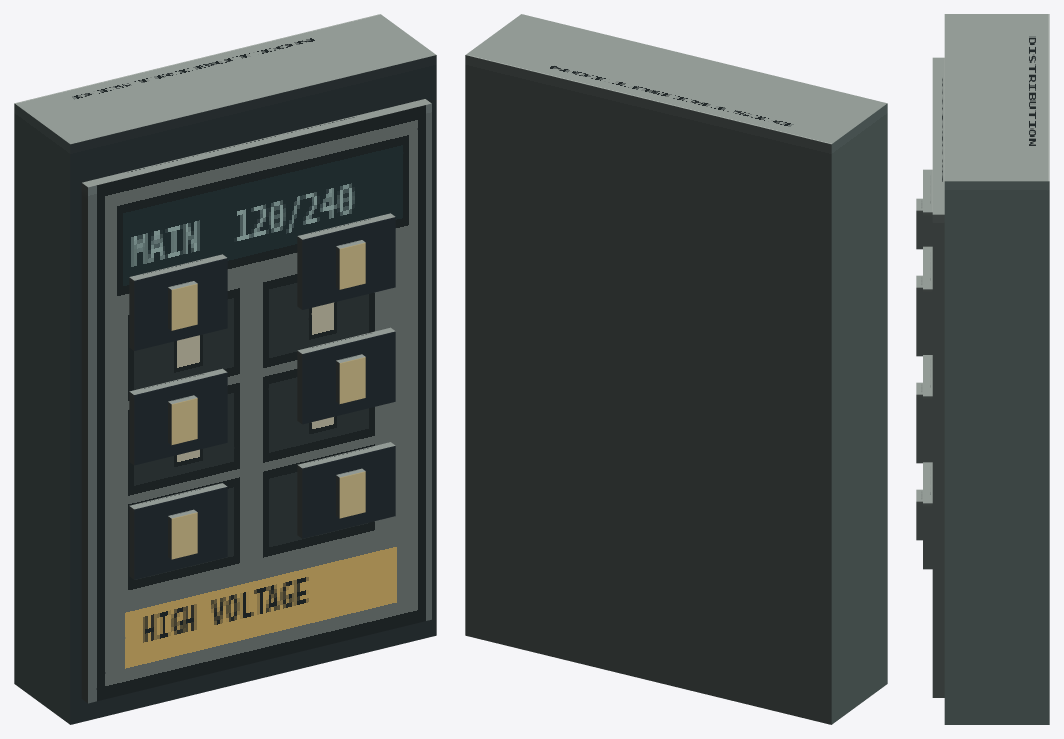
File: breaker_grande.glb
3 renders of one model, left to right at view 1: azimuth 30°, elevation 25°; view 2: azimuth 150°, elevation 25°; view 3: azimuth 270°, elevation 25°, orthographic. The views are drawn at different scales.
Visible parts, largest first — view 1: ELECTRICO; view 2: ELECTRICO; view 3: ELECTRICO.
Part boxes in pixels (left/top/right/bottom): ELECTRICO: left=14, top=14, right=436, bottom=724; ELECTRICO: left=465, top=14, right=887, bottom=724; ELECTRICO: left=916, top=14, right=1049, bottom=724.
Bounding box in the file's own units: 0.4481 × 0.6789 × 0.1509.
Materials: 1 (1 with a texture image).
